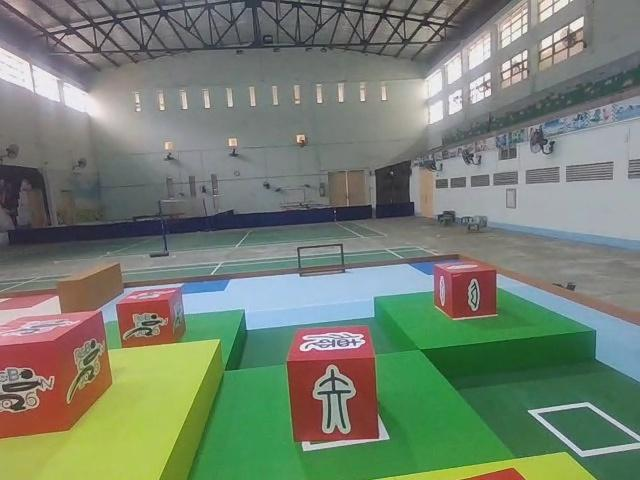R1: (0, 305, 113, 444), (114, 287, 191, 351)
R2 Fake: (283, 326, 382, 444)
R2 Real: (433, 260, 499, 322)
